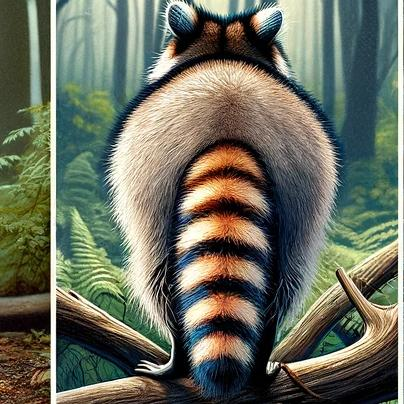raccoon: (95, 0, 355, 404)
